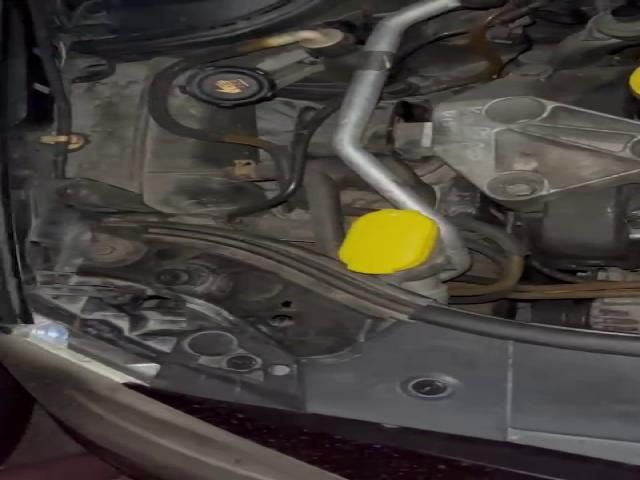antifreeze_tank: (66, 57, 274, 214), (168, 66, 274, 136)
